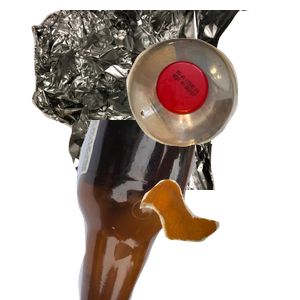glass: (60, 120, 300, 300)
metal: (29, 10, 269, 190)
plastic: (124, 36, 300, 175)
trash: (137, 177, 300, 300)
